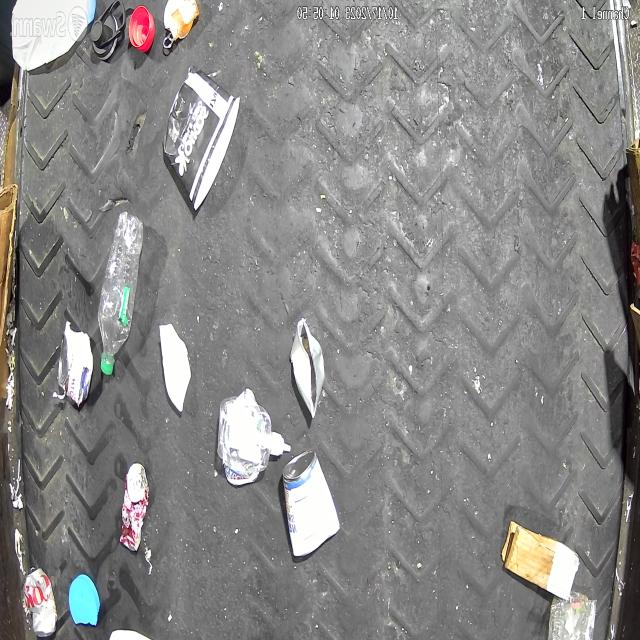can: (281, 448, 341, 558), (290, 316, 326, 418), (118, 462, 149, 552), (19, 565, 56, 637), (59, 328, 93, 404)
milk_jug: (12, 0, 96, 70)
plastic_bottle: (98, 210, 144, 374)
